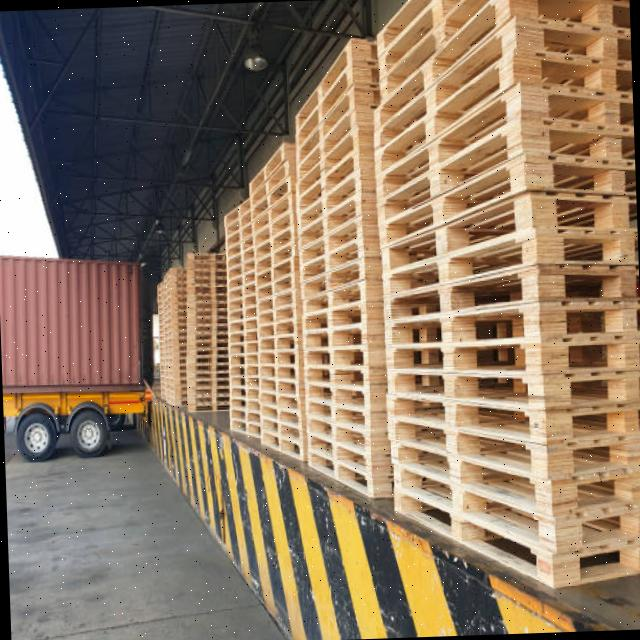Wooden-Pallets: (395, 484, 640, 593), (373, 263, 640, 325), (393, 439, 640, 502), (286, 28, 365, 148), (286, 105, 368, 201), (291, 184, 372, 258), (304, 450, 377, 506), (296, 301, 369, 340)
